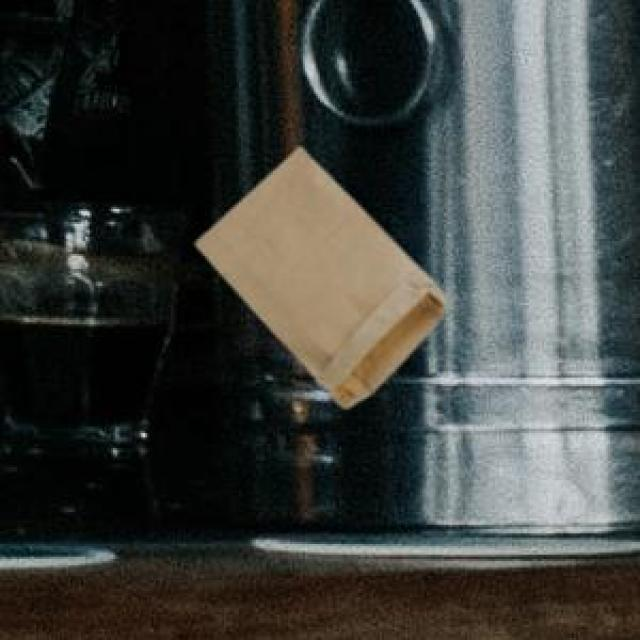paper: (192, 143, 444, 403)
